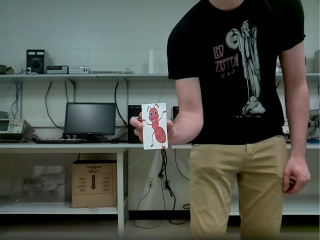Happy: (142, 103, 168, 149)
